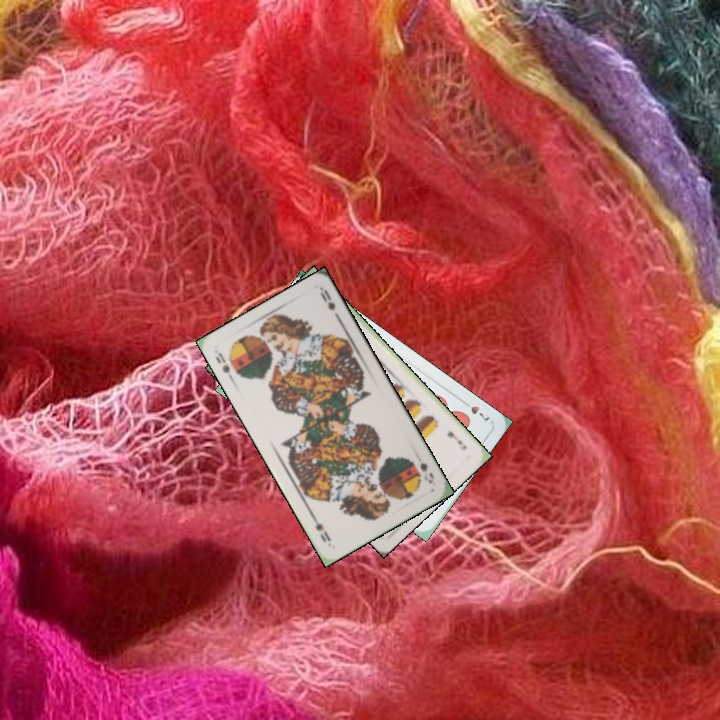E7: (443, 427, 469, 453)
H7: (458, 396, 492, 424)
SO: (211, 348, 237, 384), (416, 458, 437, 486)
